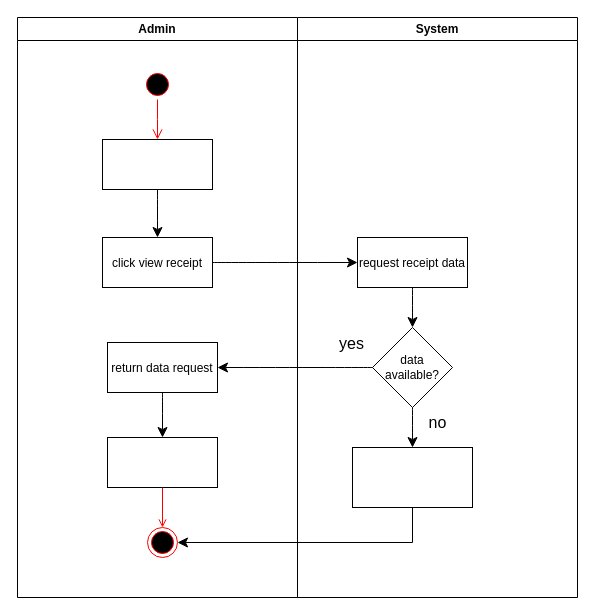
Image size: 595x615. Some labels were removed from this diagram. The shapes that lost their labels are listed below. From the top down, each one's centre as x and y in pixels, then its label:
At pixel 157 164: "Click receipt section".
At pixel 162 462: "display receiptt data".
At pixel 412 477: "redirect to report section".
